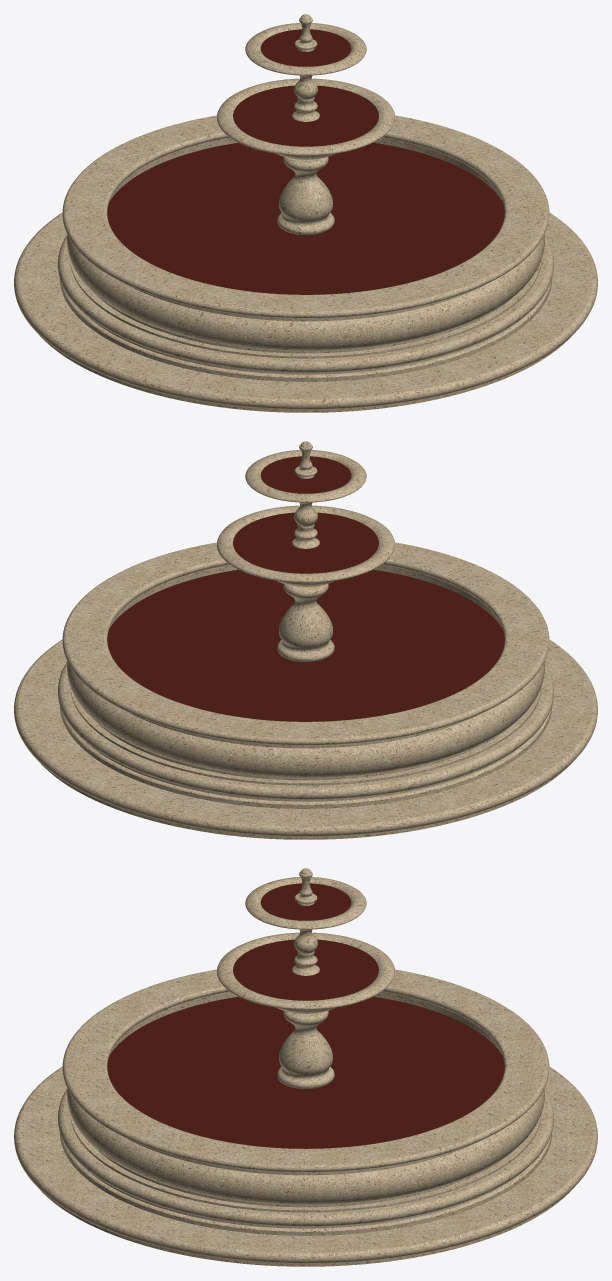
Rendered from Fountain.FBX.
3 views of the same model, one above another, from view 1: azimuth 30°, elevation 25°; view 2: azimuth 150°, elevation 25°; view 3: azimuth 270°, elevation 25° (orthographic).
Parts seen in each view (by area): view 1: Detail 01, Water 03, Water 02, Water 01; view 2: Detail 01, Water 03, Water 02, Water 01; view 3: Detail 01, Water 03, Water 02, Water 01.
Part boxes in pixels (<box>): Detail 01: <box>14,14,597,412</box>; Water 03: <box>107,142,504,294</box>; Water 02: <box>233,85,378,146</box>; Water 01: <box>260,29,351,66</box>; Detail 01: <box>14,441,597,839</box>; Water 03: <box>107,569,504,721</box>; Water 02: <box>233,512,378,573</box>; Water 01: <box>260,456,351,493</box>; Detail 01: <box>14,868,597,1266</box>; Water 03: <box>107,996,504,1148</box>; Water 02: <box>233,939,378,1000</box>; Water 01: <box>260,883,351,920</box>.
Bounding box in the file's own units: 402 × 210 × 402.
